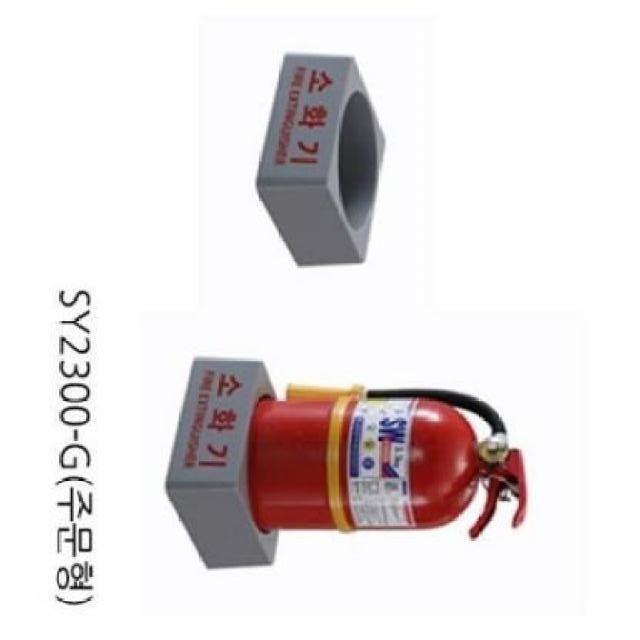fire extinguisher: (248, 382, 528, 541)
